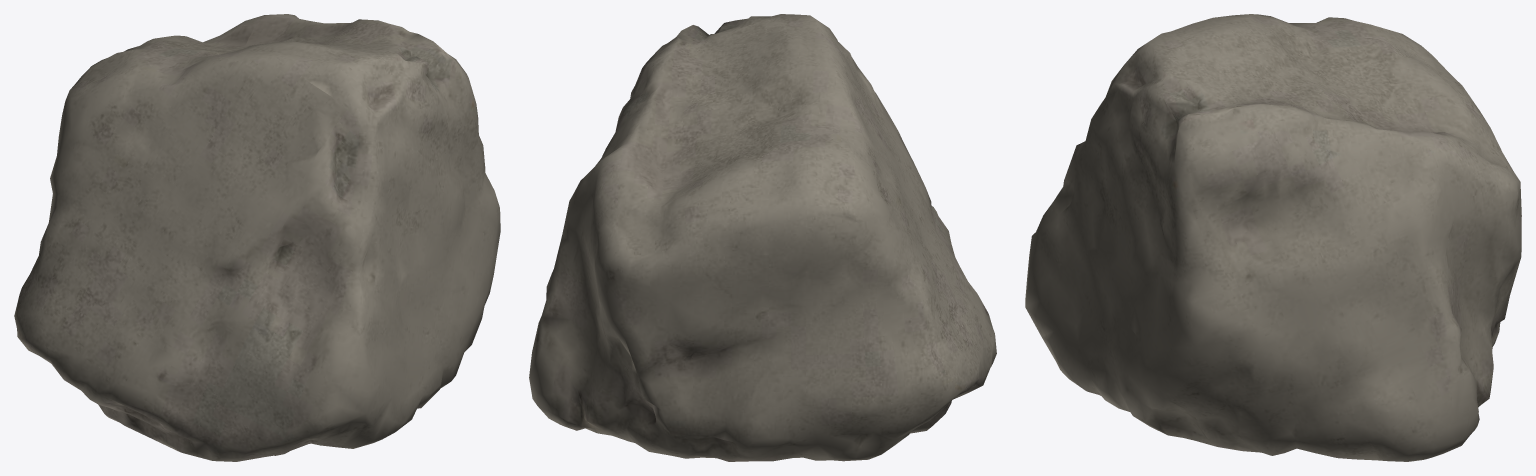
The model's file is moon_rock_02.glb.
The picture shows the model from 3 angles, left to right: view 1: azimuth 30°, elevation 25°; view 2: azimuth 150°, elevation 25°; view 3: azimuth 270°, elevation 25°; orthographic projection. The views are drawn at different scales.
Parts seen in each view (by area): view 1: lod0; view 2: lod0; view 3: lod0.
Part boxes in pixels (x1=…): lod0: x1=14, y1=14, x2=500, y2=461; lod0: x1=529, y1=14, x2=996, y2=461; lod0: x1=1025, y1=14, x2=1521, y2=461.
Size of what is drawn, in the model's own units: 1.77 by 1.45 by 1.8.
1 material, 1 textured.
